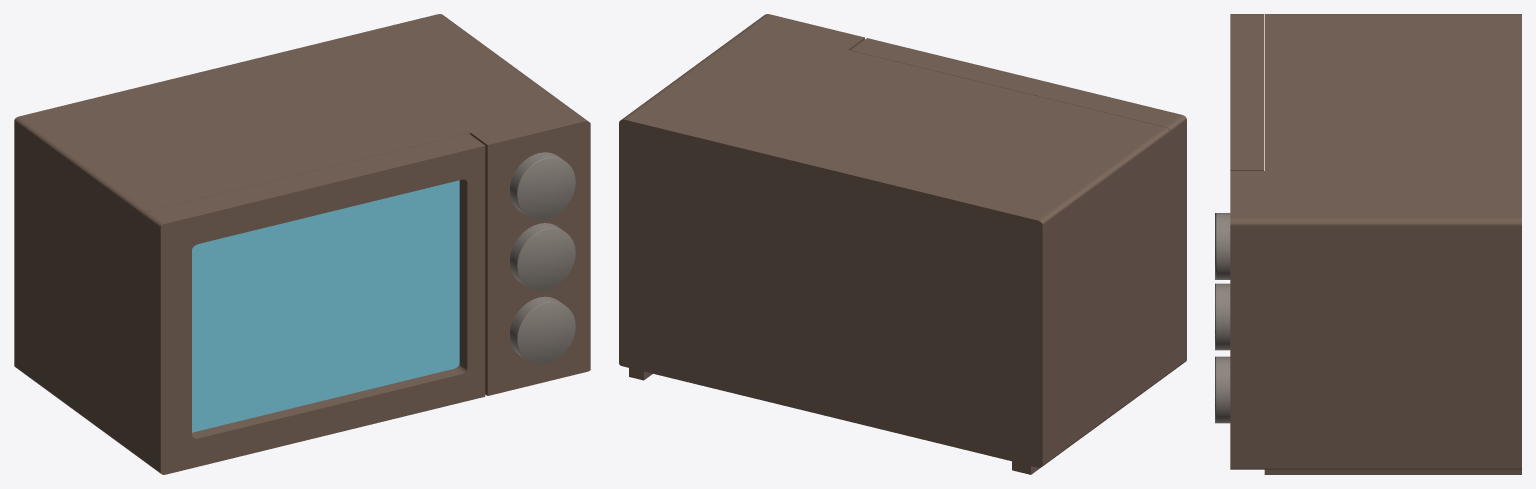
The model's file is microwave.fbx.
The picture shows the model from 3 angles, left to right: view 1: azimuth 30°, elevation 25°; view 2: azimuth 150°, elevation 25°; view 3: azimuth 270°, elevation 25°; orthographic projection.
Parts seen in each view (by area): view 1: Cube, Cube.001, Cylinder, Cylinder.001, Cylinder.002; view 2: Cube, Cube.001; view 3: Cube, Cube.001, Cylinder.001, Cylinder.002, Cylinder.
Boxes of the visible parts, <box> form: Cube: <box>14,14,590,460</box>; Cube.001: <box>143,133,485,474</box>; Cylinder: <box>510,152,575,220</box>; Cylinder.001: <box>510,223,575,290</box>; Cylinder.002: <box>510,296,575,364</box>; Cube: <box>619,14,1169,474</box>; Cube.001: <box>850,38,1186,372</box>; Cube: <box>1230,14,1521,474</box>; Cube.001: <box>1230,14,1263,170</box>; Cylinder.001: <box>1215,283,1230,350</box>; Cylinder.002: <box>1215,356,1230,423</box>; Cylinder: <box>1215,213,1230,279</box>.
Bounding box in the file's own units: 453 × 262 × 282.
